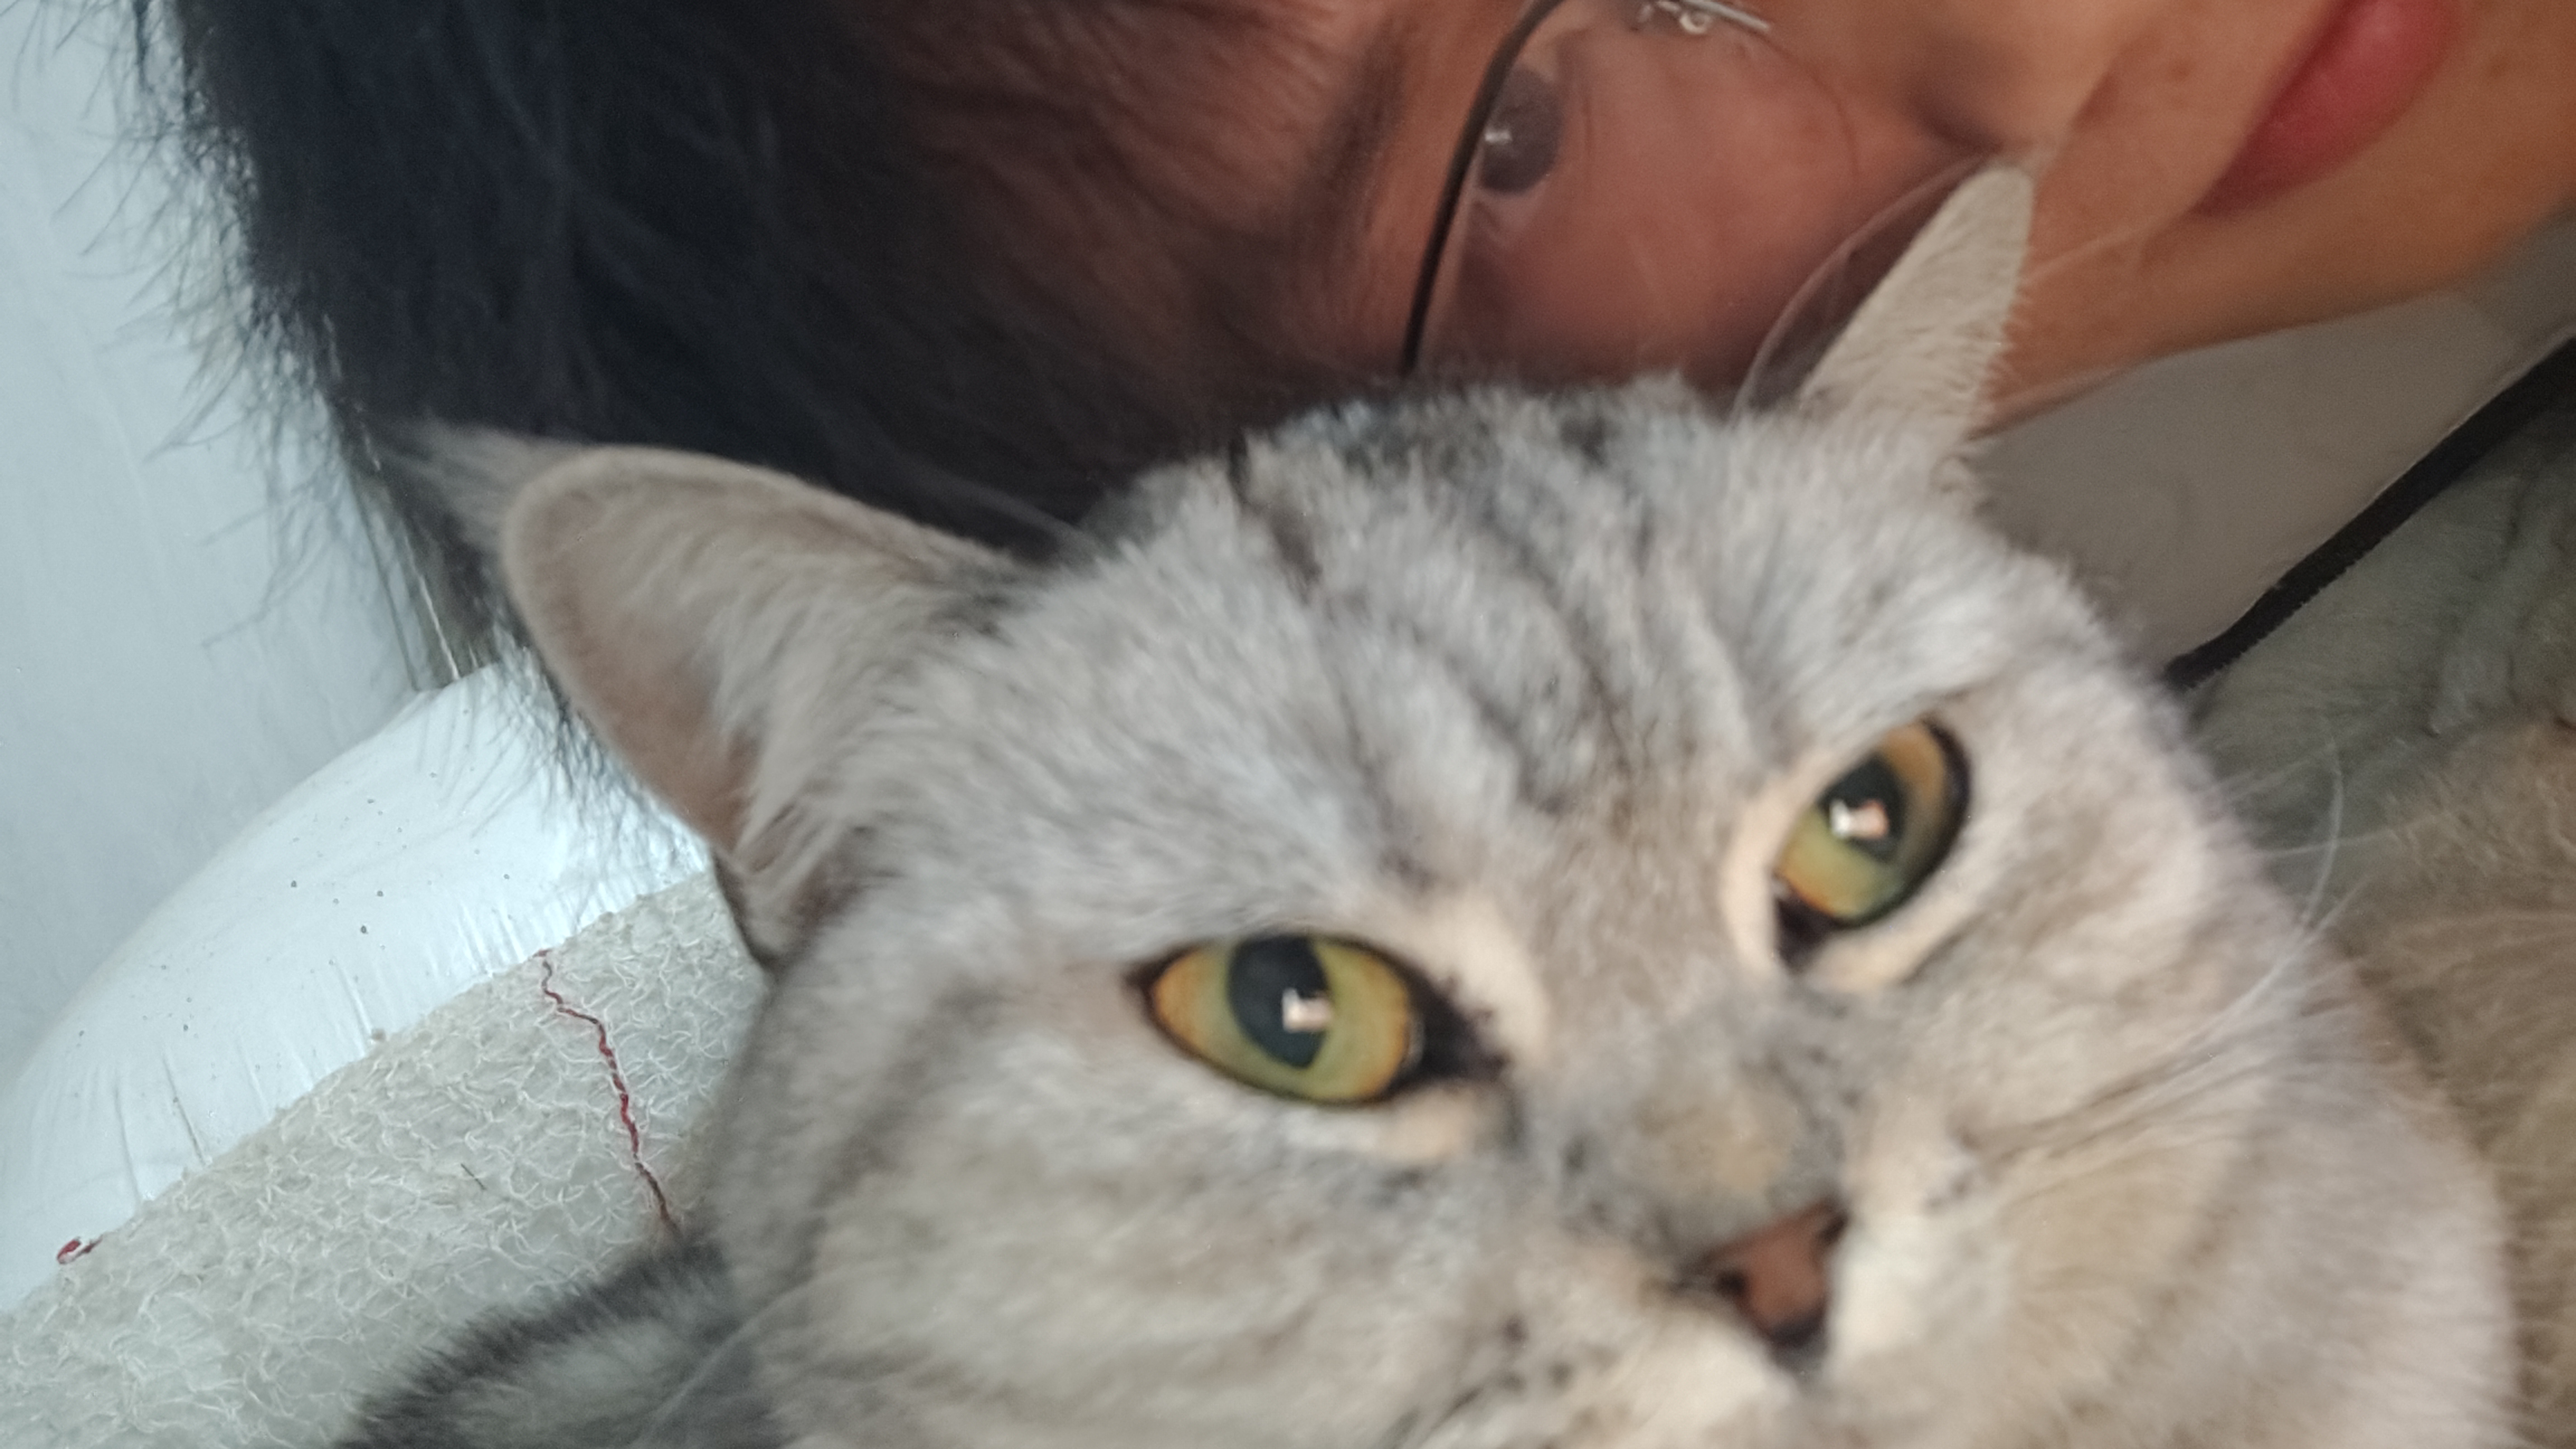white: (617, 479, 2477, 1449)
